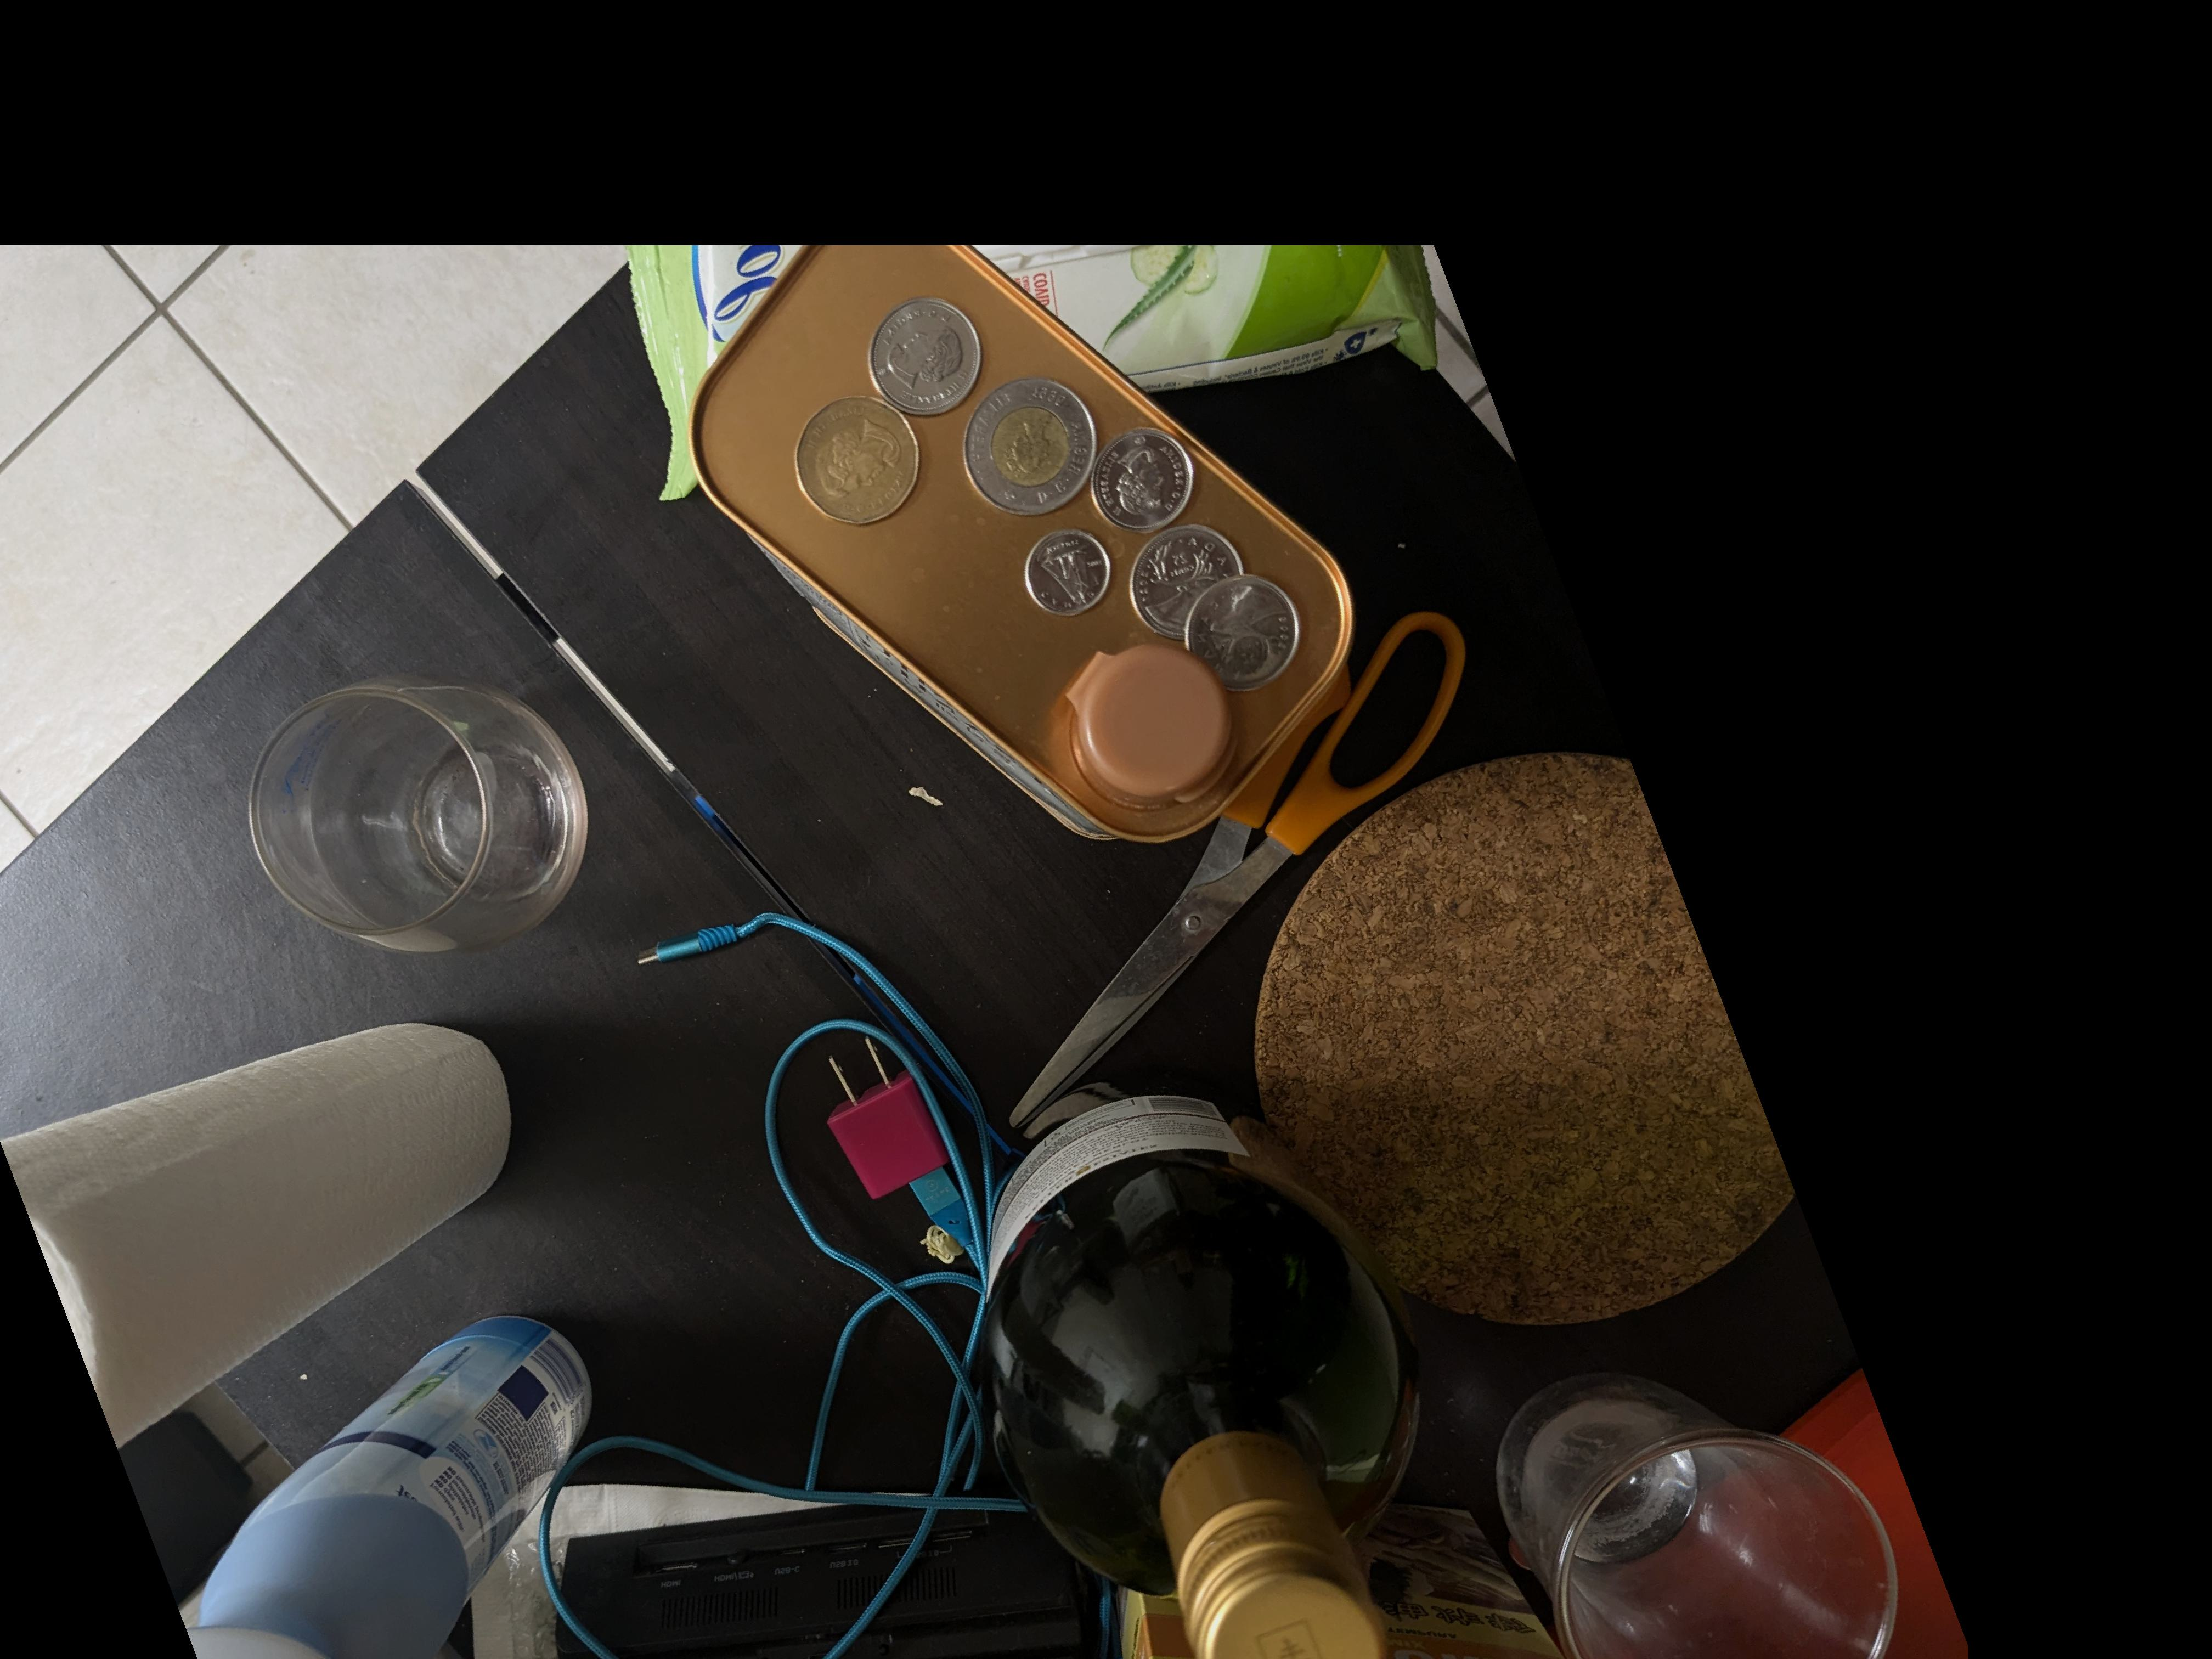dime: (1024, 514, 1115, 620)
loonie: (791, 392, 923, 528)
nickel: (1089, 430, 1188, 521)
quarter: (1184, 566, 1317, 699), (869, 295, 998, 408), (1127, 521, 1247, 640)
toonie: (968, 373, 1090, 514)
